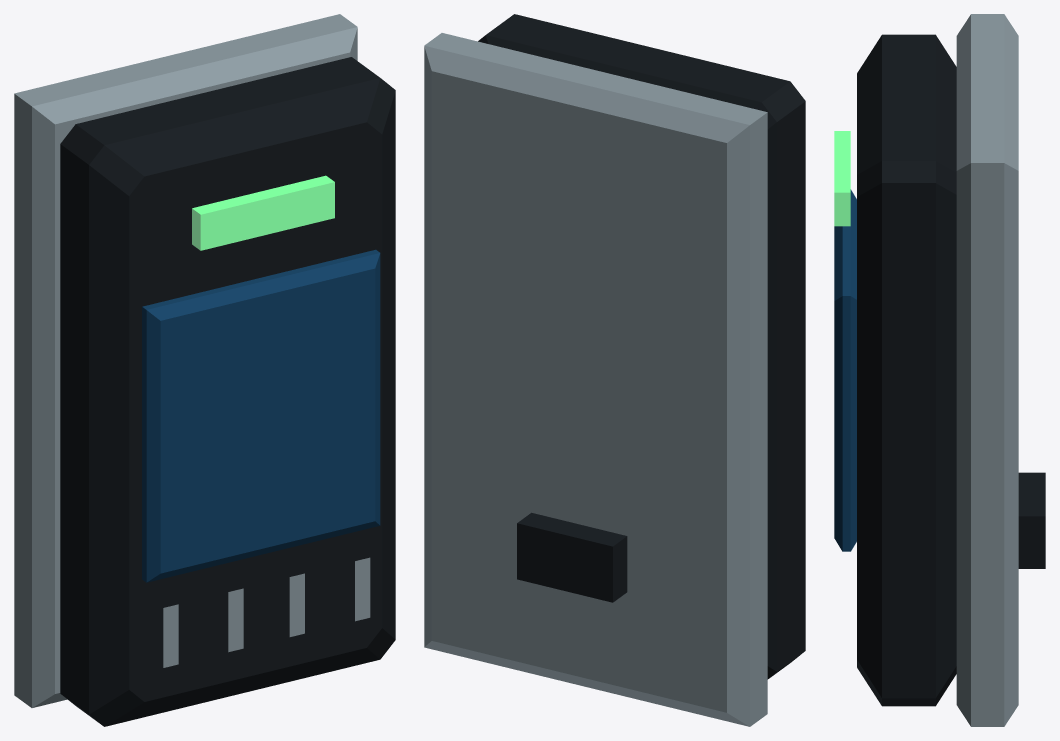
File: sg-card-reader.glb
3 renders of one model, left to right at view 1: azimuth 30°, elevation 25°; view 2: azimuth 150°, elevation 25°; view 3: azimuth 270°, elevation 25°, orthographic. The views are drawn at different scales.
Visible parts, largest first — view 1: body; view 2: body; view 3: body.
Boxes of the visible parts, x1,y1,x2,y2 form: body: [14, 14, 395, 726]; body: [424, 14, 805, 726]; body: [834, 14, 1045, 726].
Size of the model in its own units: 0.085 by 0.15 by 0.051.
